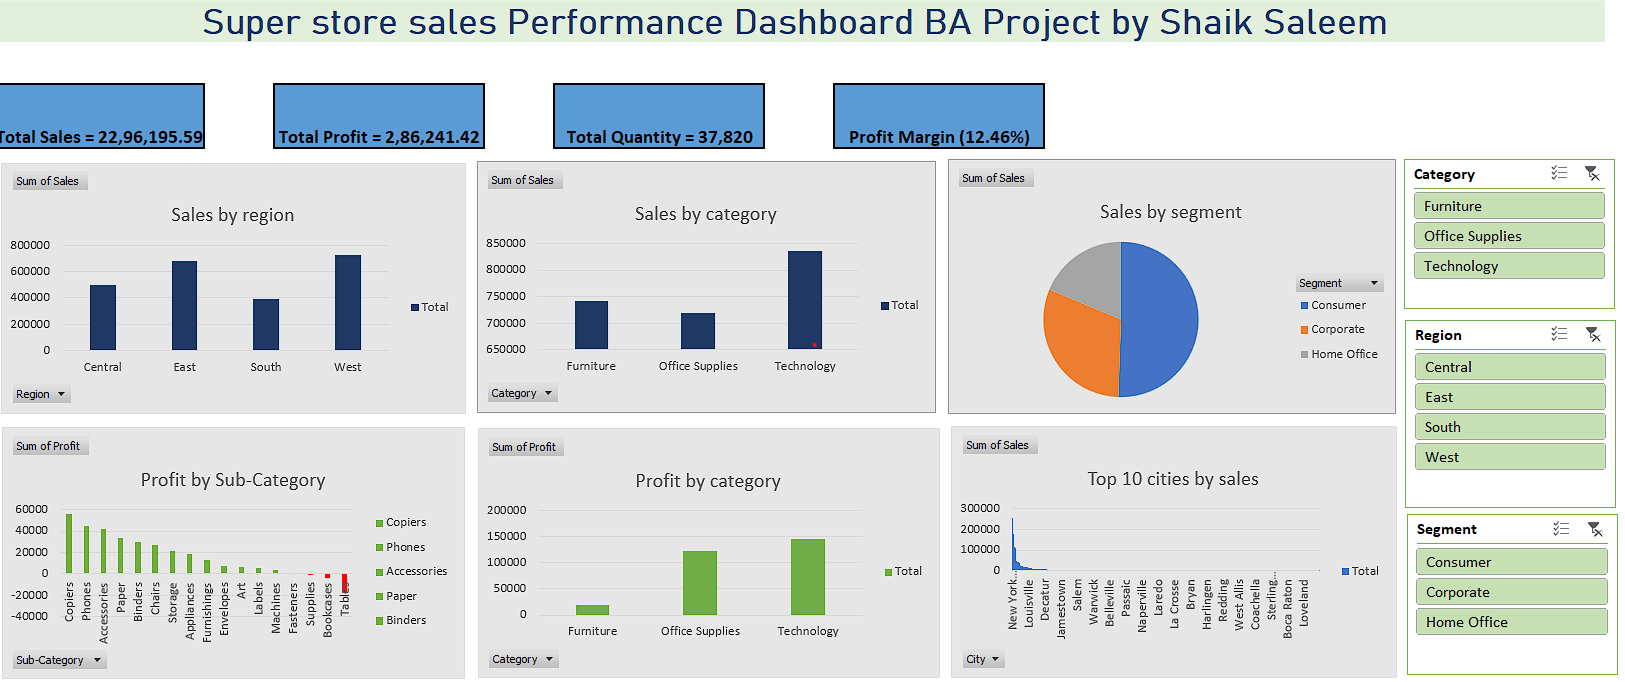

This screenshot's page, from the dashboard's own definition file:
{"tool":"powerbi","page":{"name":"Page 1","canvas":[1280,720],"ordinal":0},"visuals":[{"type":"cardVisual","fields":{"Data":["Sum(SampleSuperstore.Profit)"]},"box":[367.7,292.2,193.1,114.2],"z":0},{"type":"cardVisual","fields":{"Data":["Sum(SampleSuperstore.Quantity)"]},"box":[57.1,292.2,186.4,114.2],"z":1000},{"type":"cardVisual","fields":{"Data":["SampleSuperstore.Profit Margin"]},"box":[685.1,292.2,184.7,114.2],"z":2000},{"type":"clusteredColumnChart","fields":{"Category":["SampleSuperstore.Sales"],"Y":["CountNonNull(SampleSuperstore.Region)"]},"box":[0,1.7,300.6,270.4],"z":3000},{"type":"clusteredColumnChart","fields":{"Category":["SampleSuperstore.Category"],"Y":["Sum(SampleSuperstore.Sales)"]},"box":[300.6,450,327.4,270.4],"z":4000},{"type":"pieChart","fields":{"Category":["SampleSuperstore.Segment"],"Y":["Sum(SampleSuperstore.Sales)"]},"box":[628,450,285.5,270.4],"z":5000},{"type":"clusteredColumnChart","fields":{"Category":["SampleSuperstore.Category"],"Y":["Sum(SampleSuperstore.Profit)"]},"box":[300.6,1.7,287.1,270.4],"z":6000},{"type":"clusteredColumnChart","fields":{"Category":["SampleSuperstore.Category"],"Y":["Sum(SampleSuperstore.Profit)"]},"box":[0,448.3,300.6,272],"z":7000},{"type":"clusteredBarChart","fields":{"Category":["SampleSuperstore.City"],"Y":["Sum(SampleSuperstore.Sales)"]},"box":[587.7,0,312.3,272],"z":8000},{"type":"slicer","fields":{"Values":["SampleSuperstore.Region"]},"box":[926.9,1.7,352.6,235.1],"z":9000},{"type":"slicer","fields":{"Values":["SampleSuperstore.Category"]},"box":[926.9,450,352.6,270.4],"z":10000},{"type":"slicer","fields":{"Values":["SampleSuperstore.Segment"]},"box":[926.9,236.8,352.6,213.3],"z":11000}]}

Visuals, with their boxes on the page's 1280x720 design canvas (x1, y1, x2, y2). These are canvas units, not pixel positions in the 1625x682 screenshot, which may show the page scaled, cropped or inside an application window:
cardVisual - Sum(SampleSuperstore.Profit): [368,292,561,406]
cardVisual - Sum(SampleSuperstore.Quantity): [57,292,244,406]
cardVisual - SampleSuperstore.Profit Margin: [685,292,870,406]
clusteredColumnChart - SampleSuperstore.Sales x CountNonNull(SampleSuperstore.Region): [0,2,301,272]
clusteredColumnChart - SampleSuperstore.Category x Sum(SampleSuperstore.Sales): [301,450,628,720]
pieChart - SampleSuperstore.Segment x Sum(SampleSuperstore.Sales): [628,450,914,720]
clusteredColumnChart - SampleSuperstore.Category x Sum(SampleSuperstore.Profit): [301,2,588,272]
clusteredColumnChart - SampleSuperstore.Category x Sum(SampleSuperstore.Profit): [0,448,301,720]
clusteredBarChart - SampleSuperstore.City x Sum(SampleSuperstore.Sales): [588,0,900,272]
slicer - SampleSuperstore.Region: [927,2,1280,237]
slicer - SampleSuperstore.Category: [927,450,1280,720]
slicer - SampleSuperstore.Segment: [927,237,1280,450]
